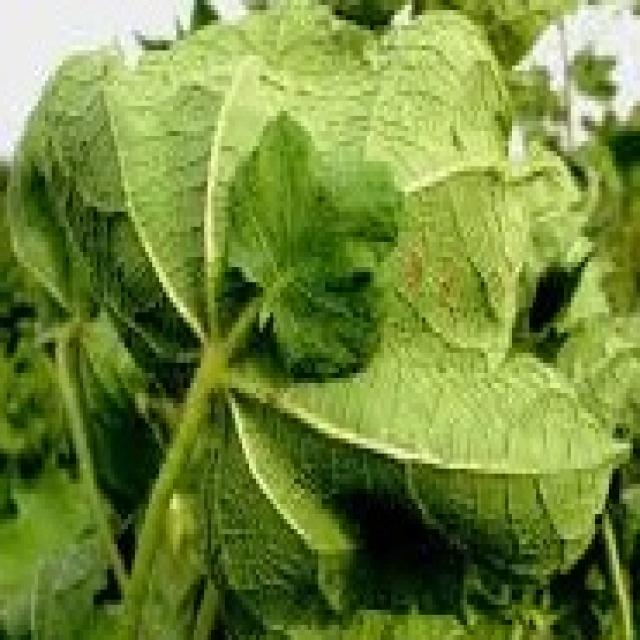Leaf Curl Virus: (174, 41, 430, 384)
